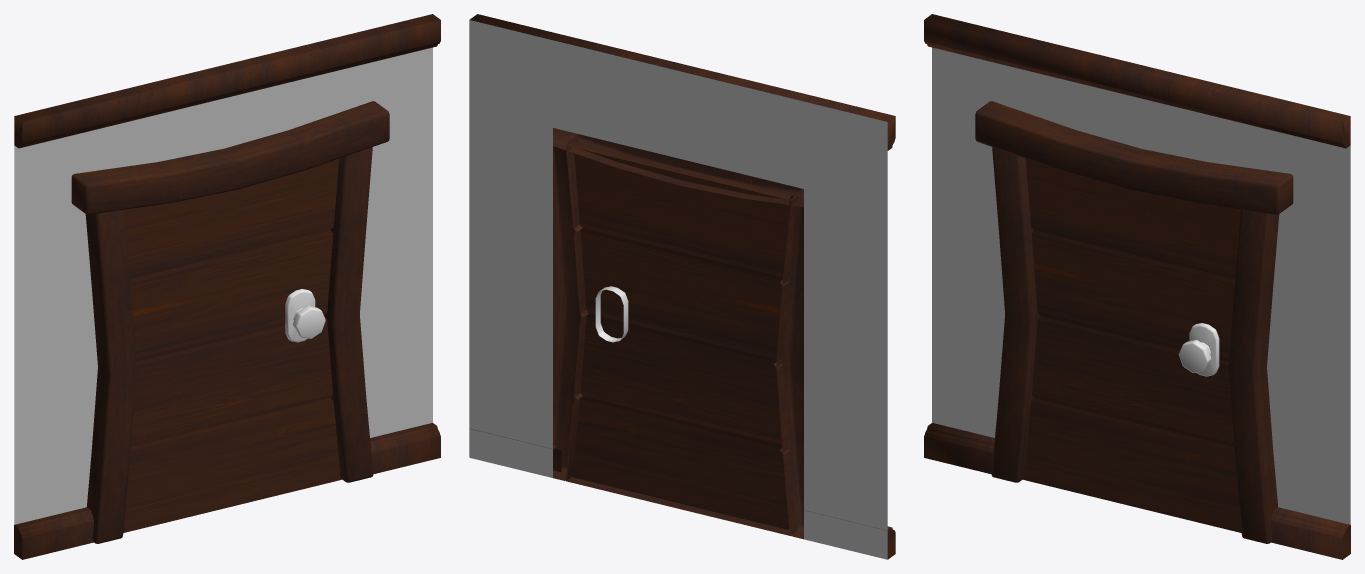
The model's file is Mesh_Modular_Door.fbx.
The picture shows the model from 3 angles, left to right: view 1: azimuth 30°, elevation 25°; view 2: azimuth 150°, elevation 25°; view 3: azimuth 330°, elevation 25°; orthographic projection.
Visible parts, largest first — view 1: Madular_Door, Cube.002, Cube.001, Cylinder; view 2: Madular_Door, Cube.002, Cube.001, Cylinder; view 3: Madular_Door, Cube.002, Cube.001, Cylinder.
Part boxes in pixels (x1,y1,x2,y2): Madular_Door: (14,14,440,559); Cube.002: (123,158,341,532); Cube.001: (71,101,389,543); Cylinder: (285,289,325,342); Madular_Door: (469,14,895,559); Cube.002: (566,142,796,536); Cube.001: (553,128,803,539); Cylinder: (595,286,628,342); Madular_Door: (924,14,1350,559); Cube.002: (1023,158,1241,532); Cube.001: (975,101,1293,543); Cylinder: (1178,323,1219,376).
Size of the model in its own units: 3 by 3 by 0.2294.
